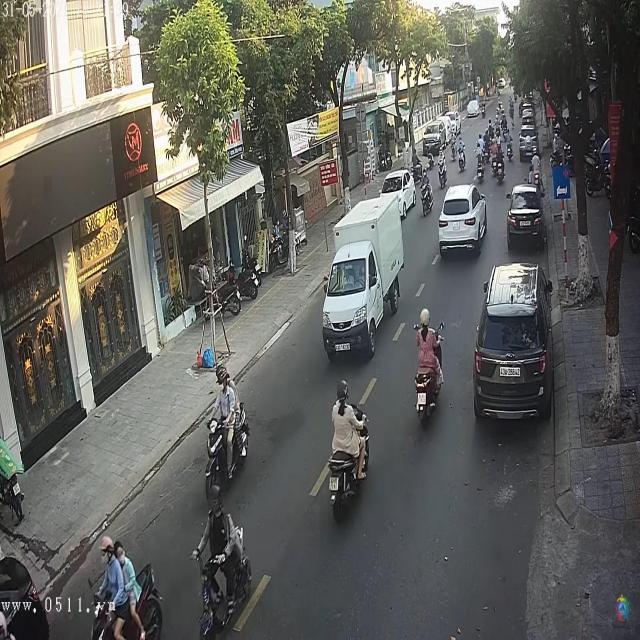car: (474, 262, 556, 420), (437, 184, 488, 256), (506, 184, 546, 246), (381, 167, 417, 219), (518, 128, 538, 152)
motorcycle: (329, 402, 370, 520), (204, 408, 251, 508), (412, 322, 444, 428), (421, 178, 435, 220), (436, 160, 449, 193)
truck: (322, 195, 406, 360)
